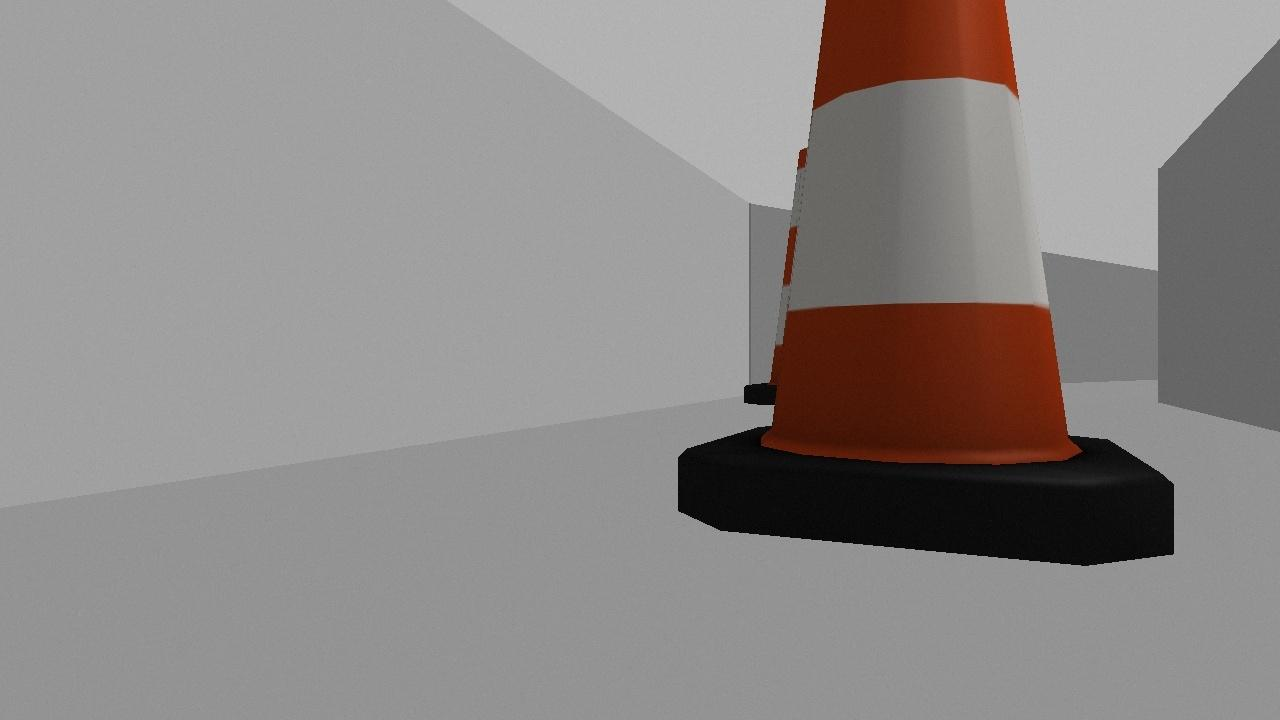cone_barrel: (673, 0, 1176, 566)
